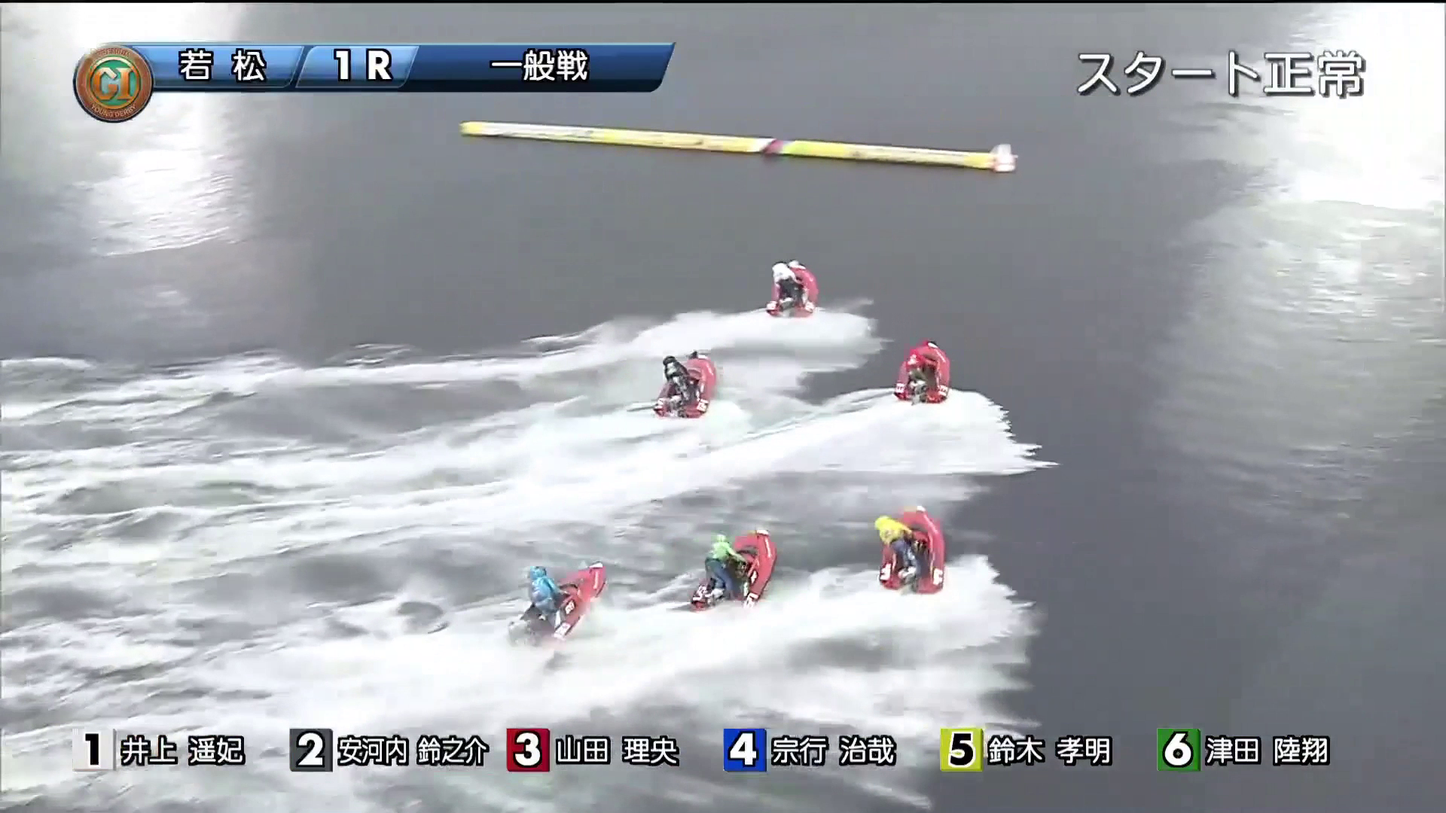１号艇: (744, 257, 815, 311)
２号艇: (631, 355, 760, 415)
３号艇: (865, 358, 962, 405)
４号艇: (648, 540, 782, 605)
５号艇: (459, 581, 582, 636)
６号艇: (866, 509, 966, 566)
